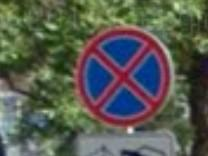No Parking: (79, 27, 174, 128)
